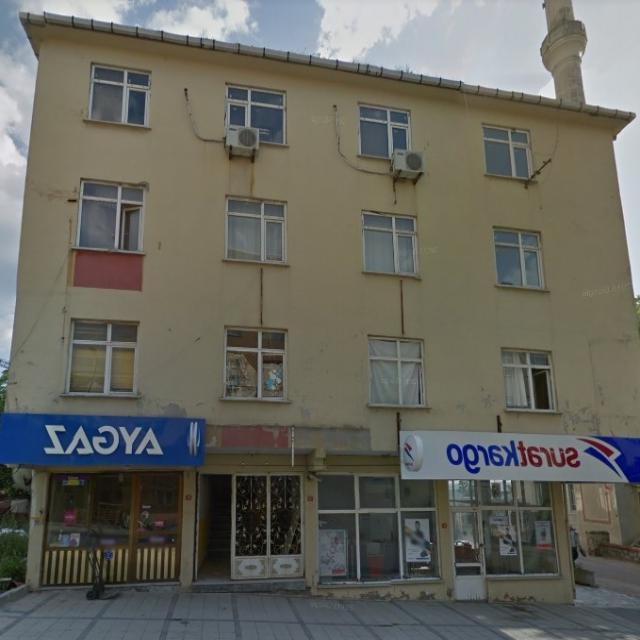Building: (0, 11, 640, 603)
